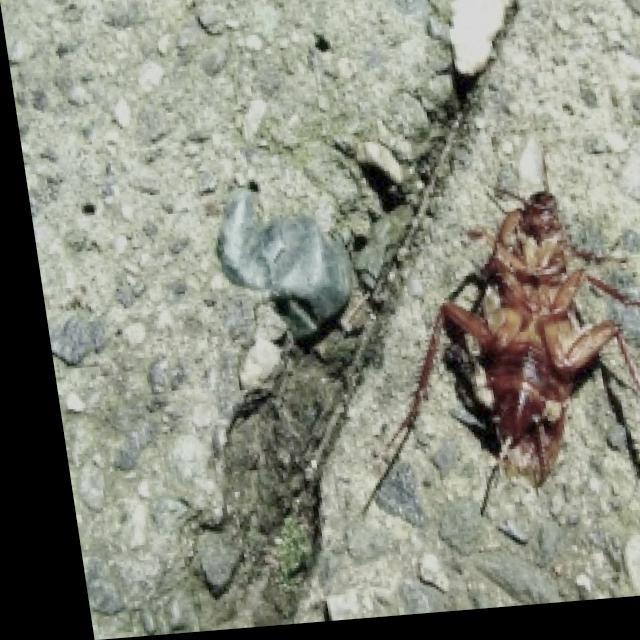cockroach: (357, 141, 637, 546)
